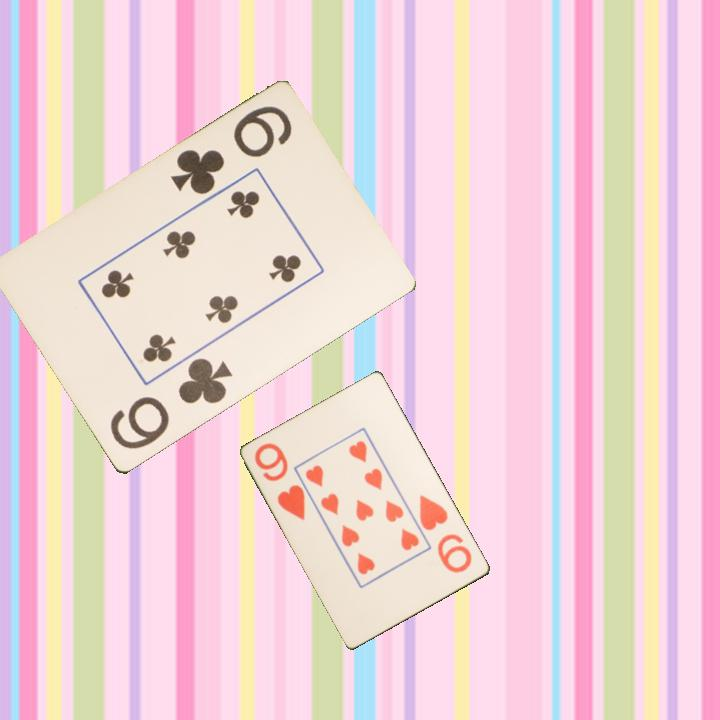6c: (106, 354, 236, 454), (167, 102, 296, 199)
9h: (416, 491, 475, 576), (251, 439, 308, 523)
